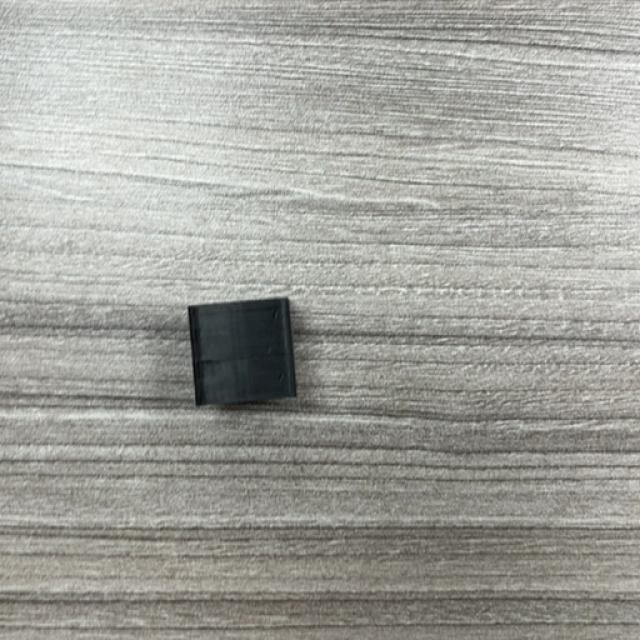Negro: (188, 298, 298, 408)
